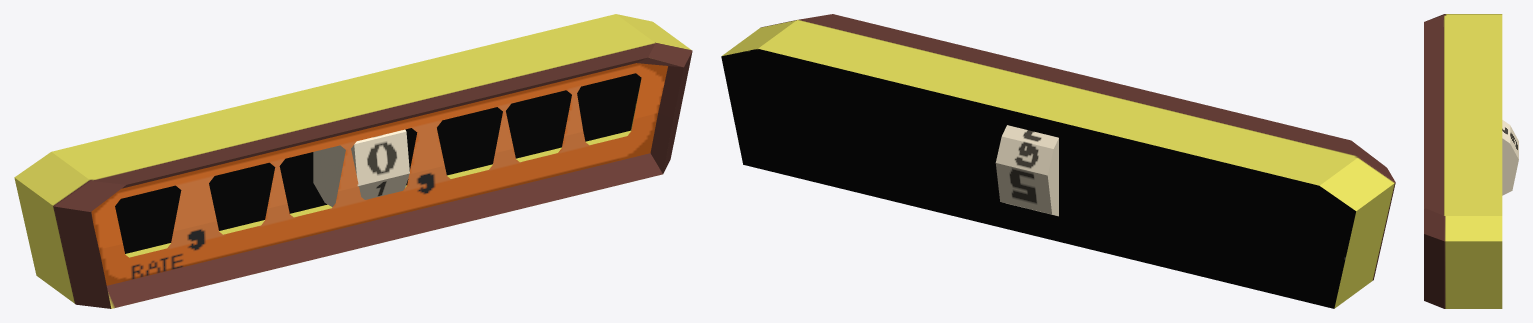
Rendered from Taximetro.fbx.
3 views of the same model, side by side, from view 1: azimuth 30°, elevation 25°; view 2: azimuth 150°, elevation 25°; view 3: azimuth 270°, elevation 25° (orthographic). The views are drawn at different scales.
Visible parts, largest first — view 1: Cube, Cylinder; view 2: Cube, Cylinder; view 3: Cube, Cylinder.
Boxes of the visible parts, x1,y1,x2,y2 form: Cube: [14, 14, 692, 308]; Cylinder: [313, 129, 409, 206]; Cube: [721, 14, 1395, 308]; Cylinder: [995, 125, 1058, 216]; Cube: [1424, 14, 1502, 308]; Cylinder: [1502, 120, 1518, 195].
Size of the model in its own units: 3235 by 587 by 571.
2 materials, 2 textured.
